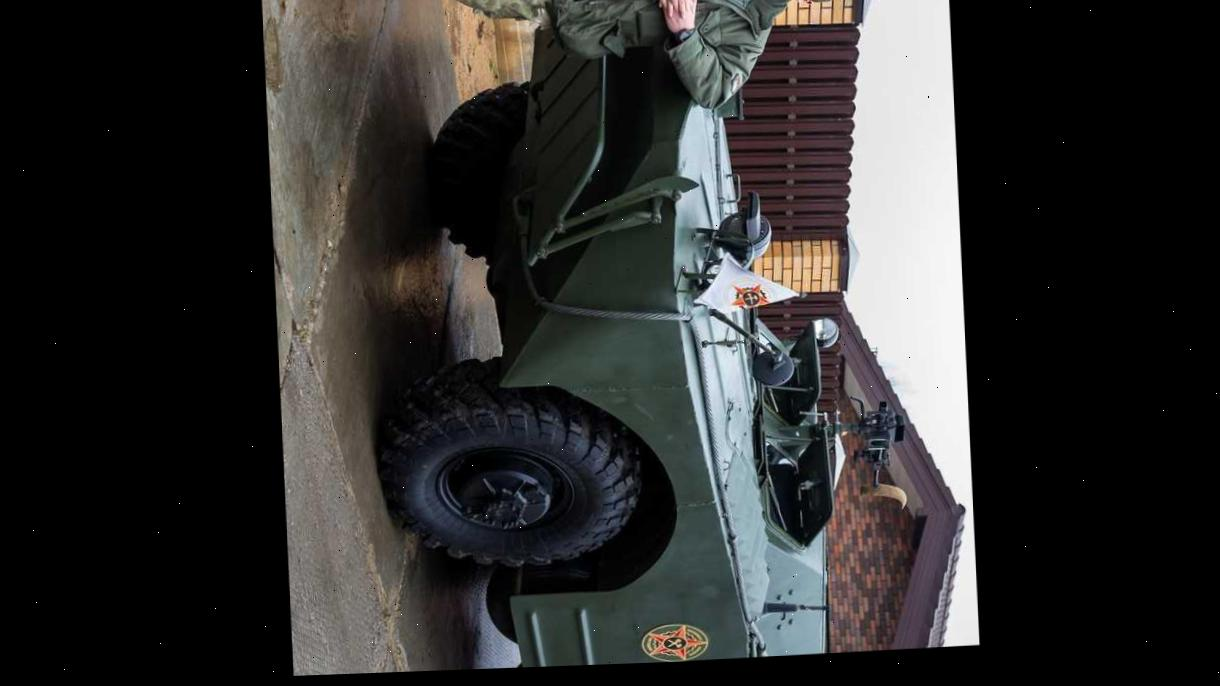tank: (346, 0, 928, 673)
